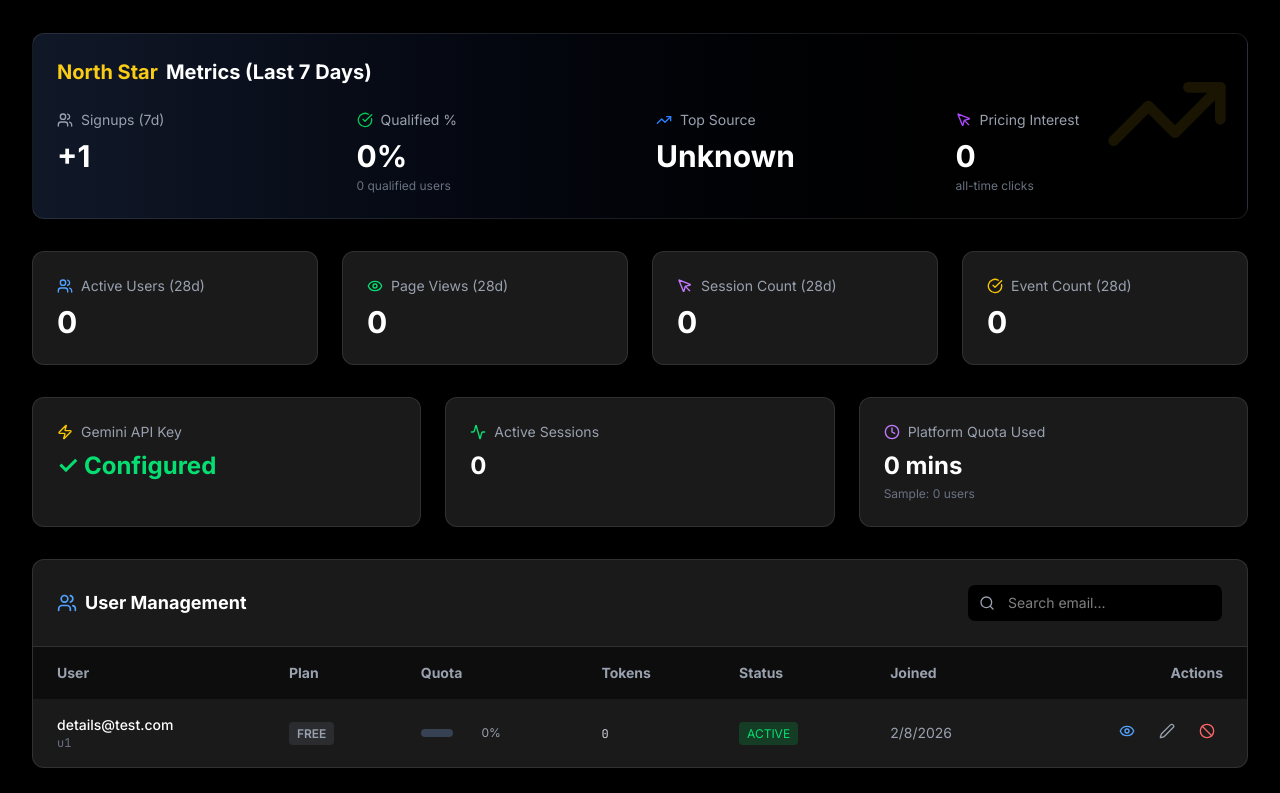
Test case: AdminDashboard › closes user details modal
This screenshot has width=1280, height=793.
(page scrolled)
Expected: the text "details@test.com" is shown, [57,716,173,733]
Click the button titled "View Details" at (1127, 731), box [1111,715,1143,747]
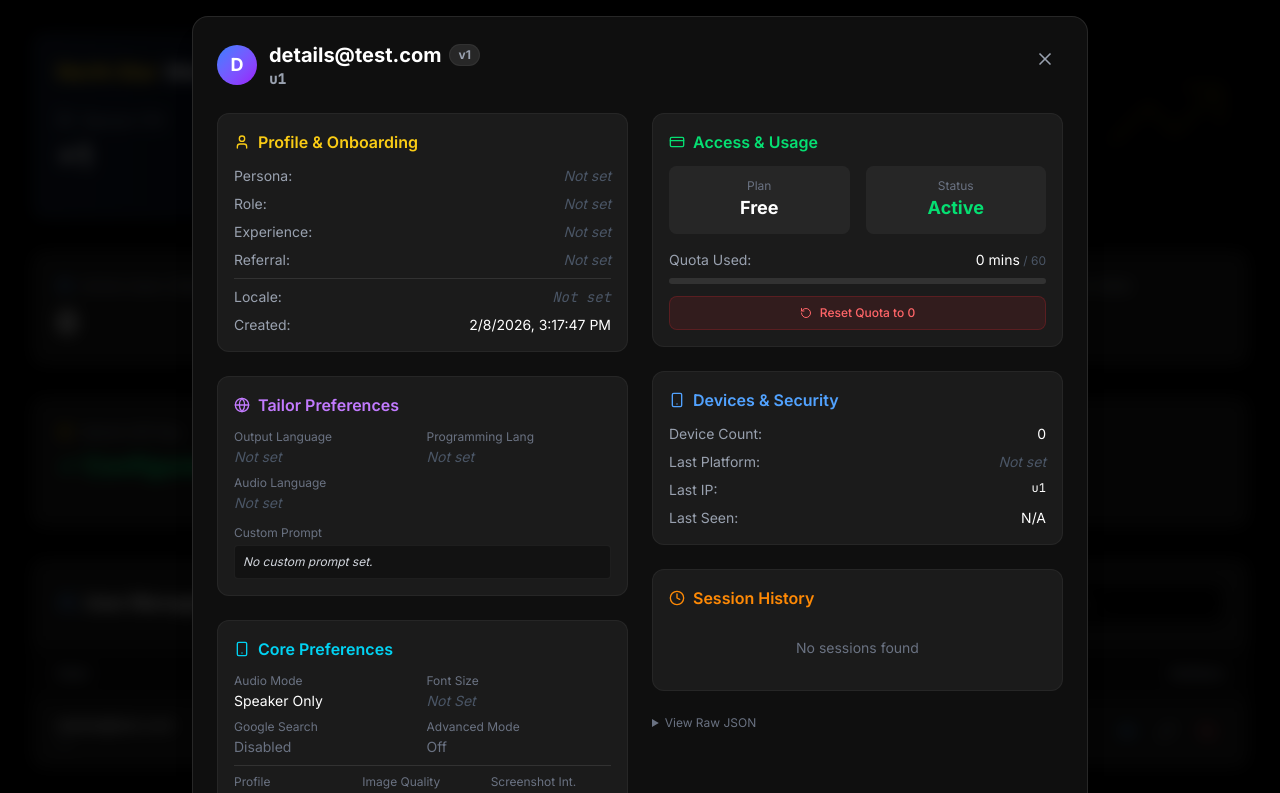
Expected: the heading "Profile & Onboarding" is shown, [234,132,418,152]
Click the button named "Close modal" at (1045, 59), box [1027,41,1063,77]
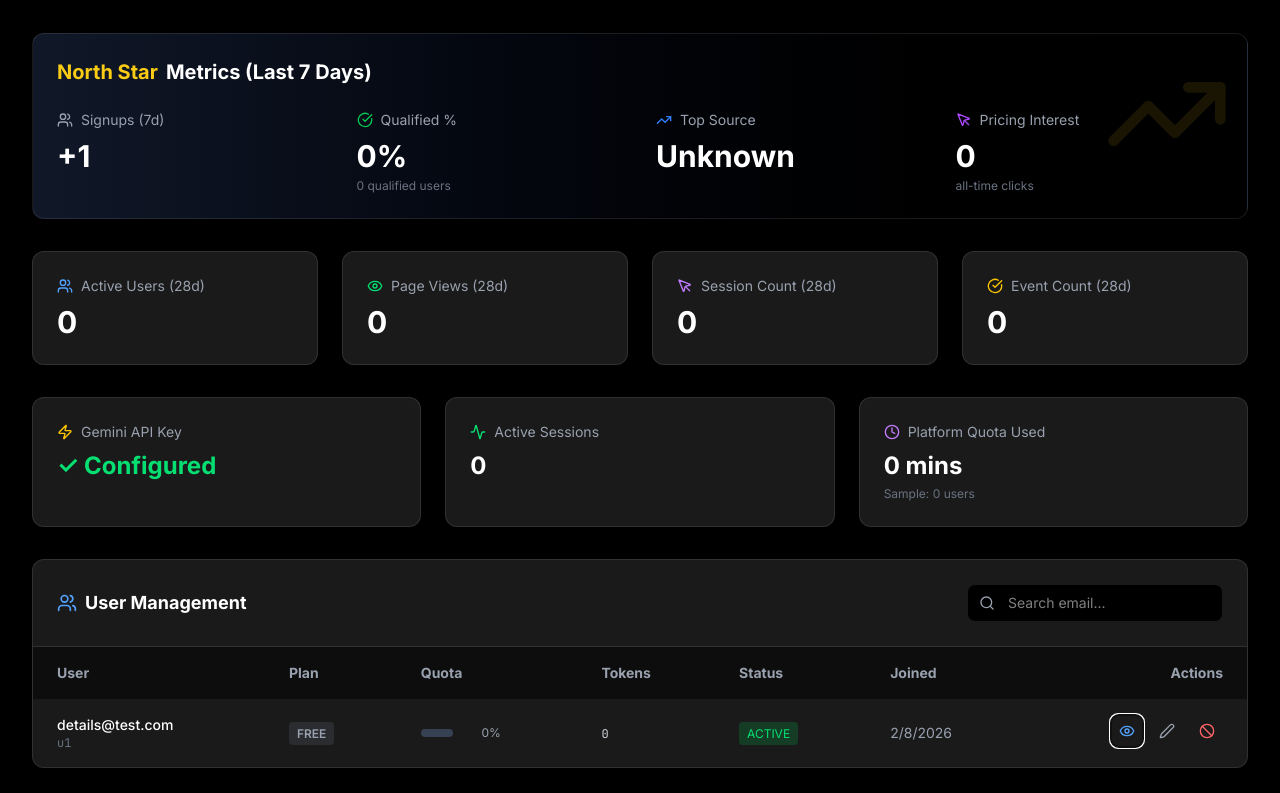
Expected: the heading "Profile & Onboarding" is gone
